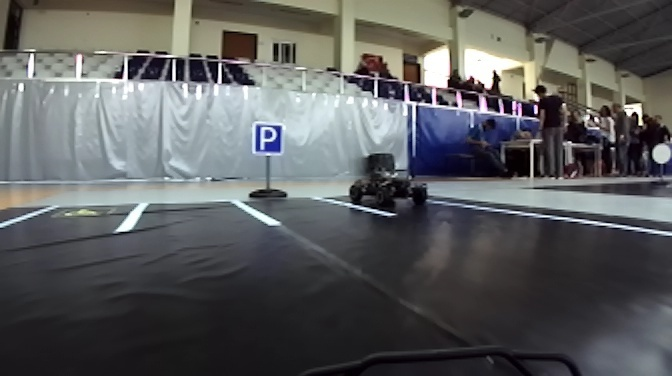park: (251, 121, 289, 158)
